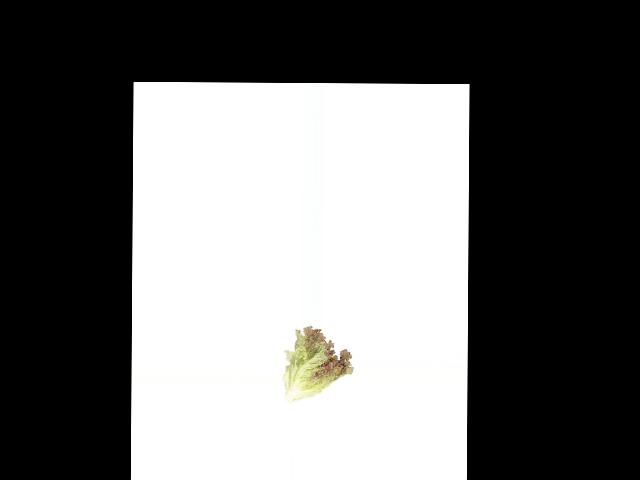lettuce: (283, 325, 352, 401)
